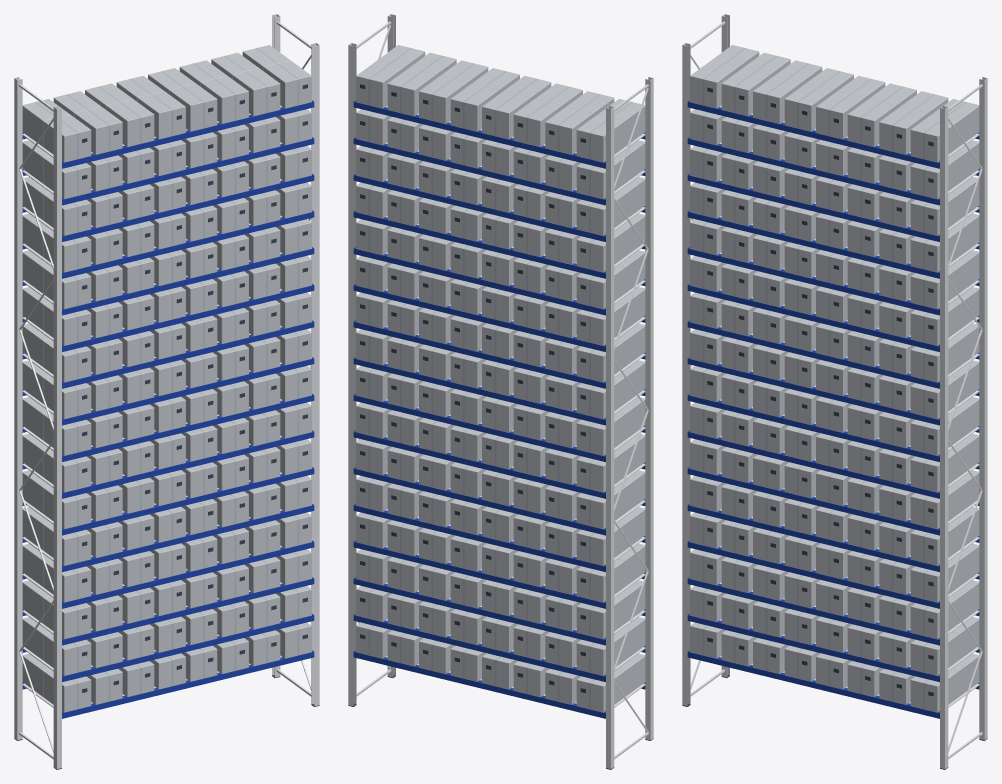
File: SM_MPR_CADRack_F16_W144_Standard.fbx
The picture shows the model from 3 angles, left to right: view 1: azimuth 30°, elevation 25°; view 2: azimuth 150°, elevation 25°; view 3: azimuth 330°, elevation 25°; orthographic projection.
Parts seen in each view (by area): view 1: SM_MPR_CADRack_F16_W144_Standard; view 2: SM_MPR_CADRack_F16_W144_Standard; view 3: SM_MPR_CADRack_F16_W144_Standard.
Boxes of the visible parts, bbox=[...] form: SM_MPR_CADRack_F16_W144_Standard: bbox=[14, 14, 319, 769]; SM_MPR_CADRack_F16_W144_Standard: bbox=[348, 14, 653, 769]; SM_MPR_CADRack_F16_W144_Standard: bbox=[682, 14, 987, 769].
Size of the model in its own units: 381 by 107 by 915.
